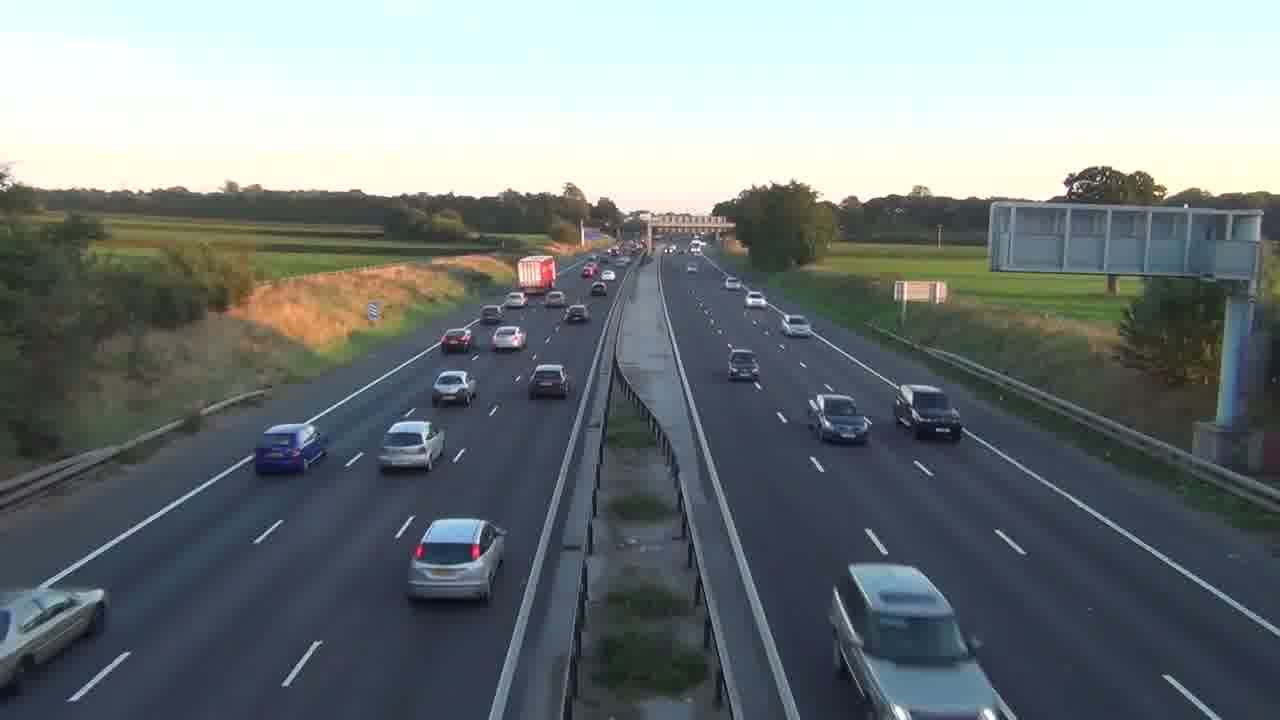car: (827, 561, 1019, 719), (0, 584, 110, 694), (406, 515, 508, 603), (377, 418, 445, 472), (807, 394, 872, 445), (432, 369, 477, 406), (528, 363, 572, 399), (728, 348, 761, 381), (491, 325, 527, 352), (439, 327, 473, 355), (563, 303, 592, 324), (544, 289, 566, 309)
truck: (892, 383, 963, 442), (516, 254, 558, 294)
